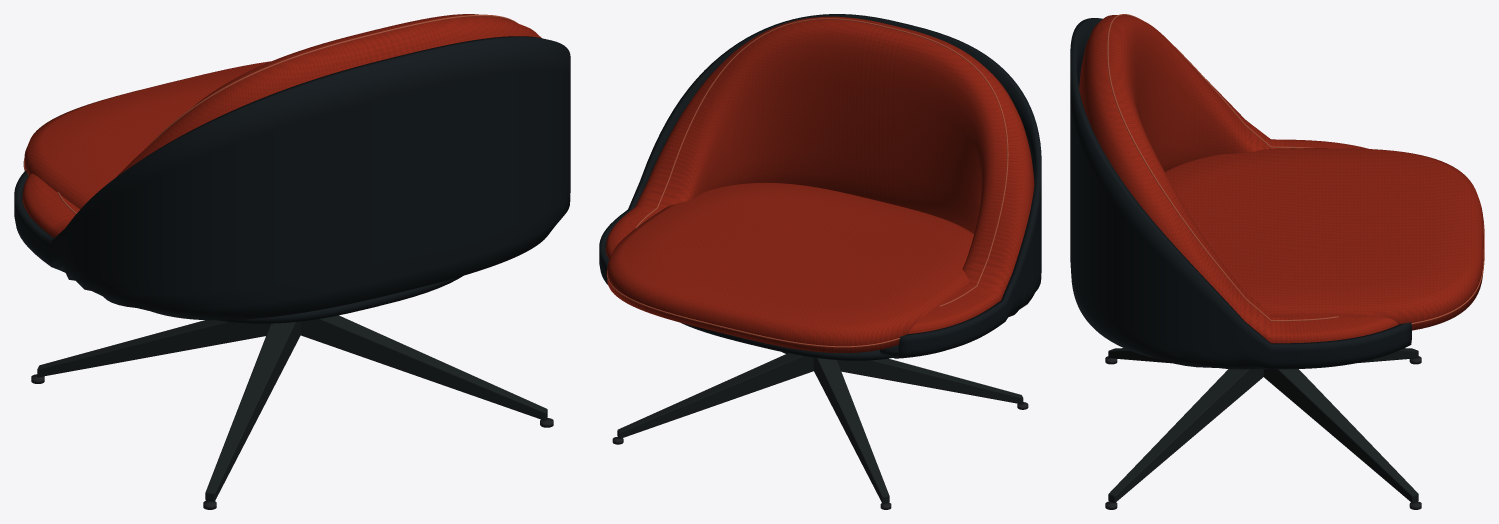
3 renders of one model, left to right at view 1: azimuth 30°, elevation 25°; view 2: azimuth 150°, elevation 25°; view 3: azimuth 270°, elevation 25°, orthographic. The views are drawn at different scales.
Parts seen in each view (by area): view 1: Charcoal outer backing with rolled front ends, Thick upholstered back and descending side wings, Concealed central seat support, Fine top edge upholstery welt; view 2: Thick upholstered back and descending side wings, Charcoal outer backing with rolled front ends, Concealed central seat support, Fine top edge upholstery welt; view 3: Thick upholstered back and descending side wings, Charcoal outer backing with rolled front ends, Concealed central seat support, Fine top edge upholstery welt.
Boxes of the visible parts, <box> form: Charcoal outer backing with rolled front ends: <box>14,36,570,323</box>; Thick upholstered back and descending side wings: <box>22,14,541,237</box>; Concealed central seat support: <box>37,315,547,501</box>; Fine top edge upholstery welt: <box>23,14,517,213</box>; Thick upholstered back and descending side wings: <box>605,16,1034,352</box>; Charcoal outer backing with rolled front ends: <box>599,14,1041,360</box>; Concealed central seat support: <box>617,352,1023,503</box>; Fine top edge upholstery welt: <box>606,18,1008,347</box>; Thick upholstered back and descending side wings: <box>1079,15,1483,343</box>; Charcoal outer backing with rolled front ends: <box>1070,18,1411,369</box>; Concealed central seat support: <box>1108,348,1418,503</box>; Fine top edge upholstery welt: <box>1107,14,1484,324</box>.
Bounding box in the file's own units: 0.974 × 0.8521 × 0.8307.
Materials: 5 (1 with a texture image).
